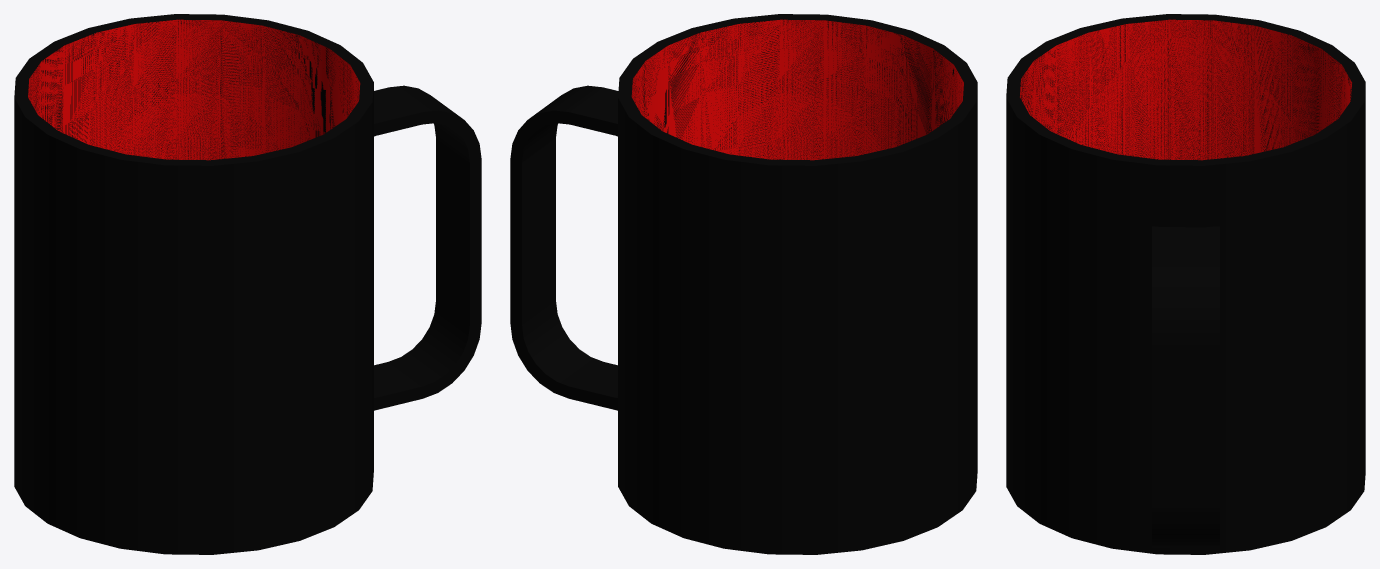
Rendered from mug_14_origin_gt_4.dae.
The picture shows the model from 3 angles, left to right: view 1: azimuth 30°, elevation 25°; view 2: azimuth 150°, elevation 25°; view 3: azimuth 270°, elevation 25°; orthographic projection.
Visible parts, largest first — view 1: Coffee_Mug (×3); view 2: Coffee_Mug (×3); view 3: Coffee_Mug (×3).
Part boxes in pixels (x1=…): Coffee_Mug (×3): x1=14, y1=14, x2=481, y2=554; Coffee_Mug (×3): x1=510, y1=14, x2=977, y2=554; Coffee_Mug (×3): x1=1006, y1=14, x2=1365, y2=554.
Bounding box in the file's own units: 4.29 × 3.13 × 3.74.
